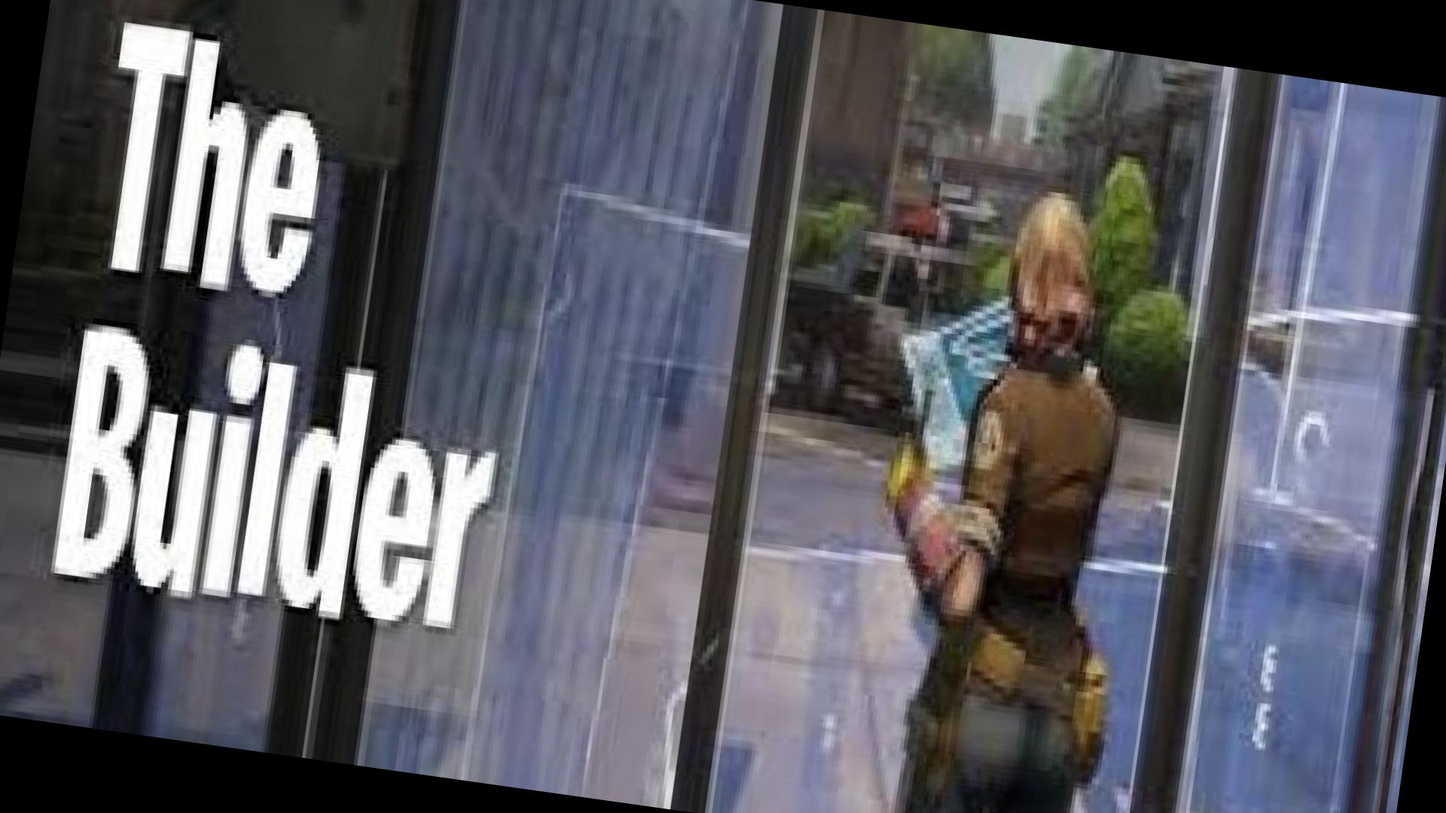player: (874, 257, 1139, 813)
